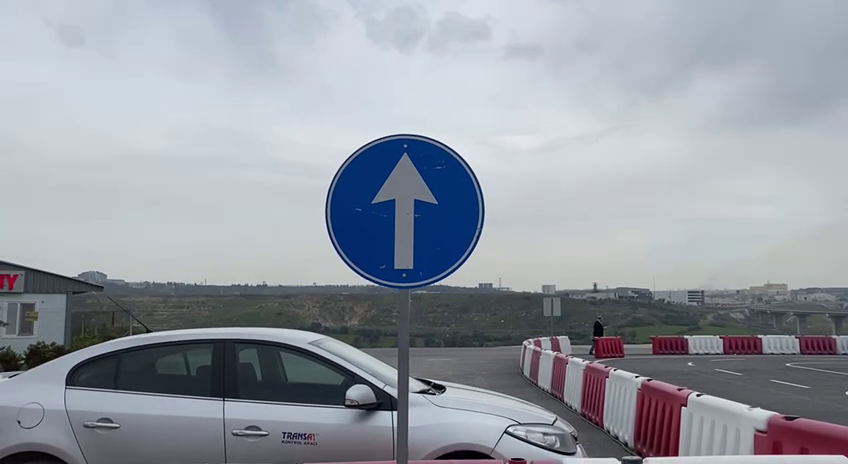forward: (321, 127, 489, 293)
